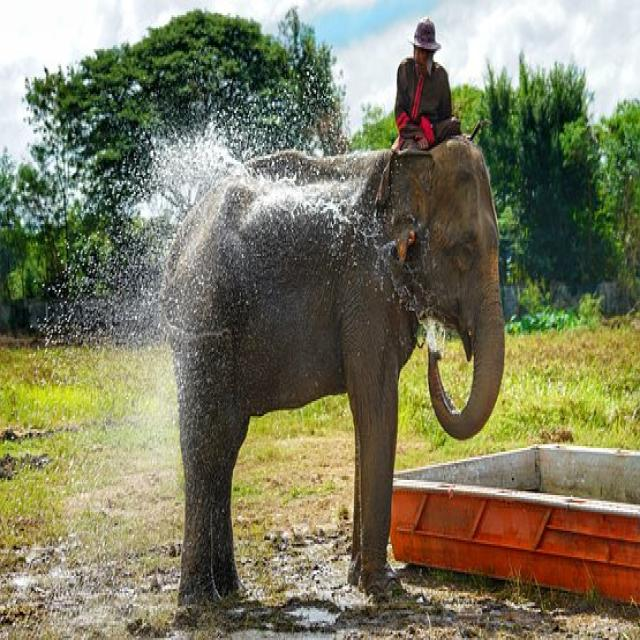Elephant: (156, 136, 532, 619)
